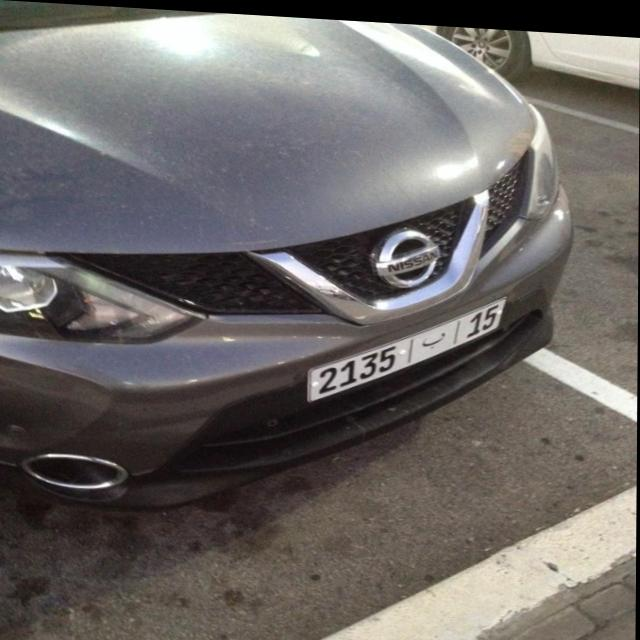License-Plate: (308, 293, 505, 397)
